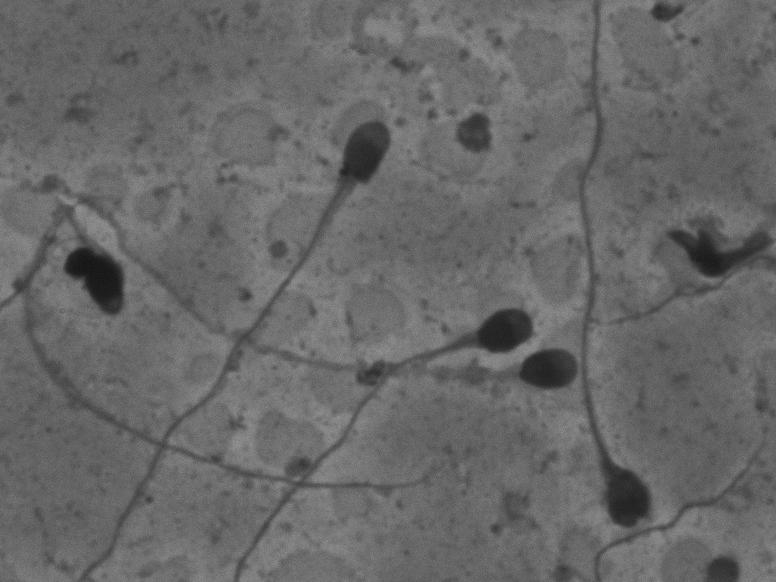Abnormal: (79, 110, 406, 571), (570, 26, 667, 533), (32, 181, 134, 332)
Normal: (56, 179, 582, 398), (217, 292, 542, 573)
